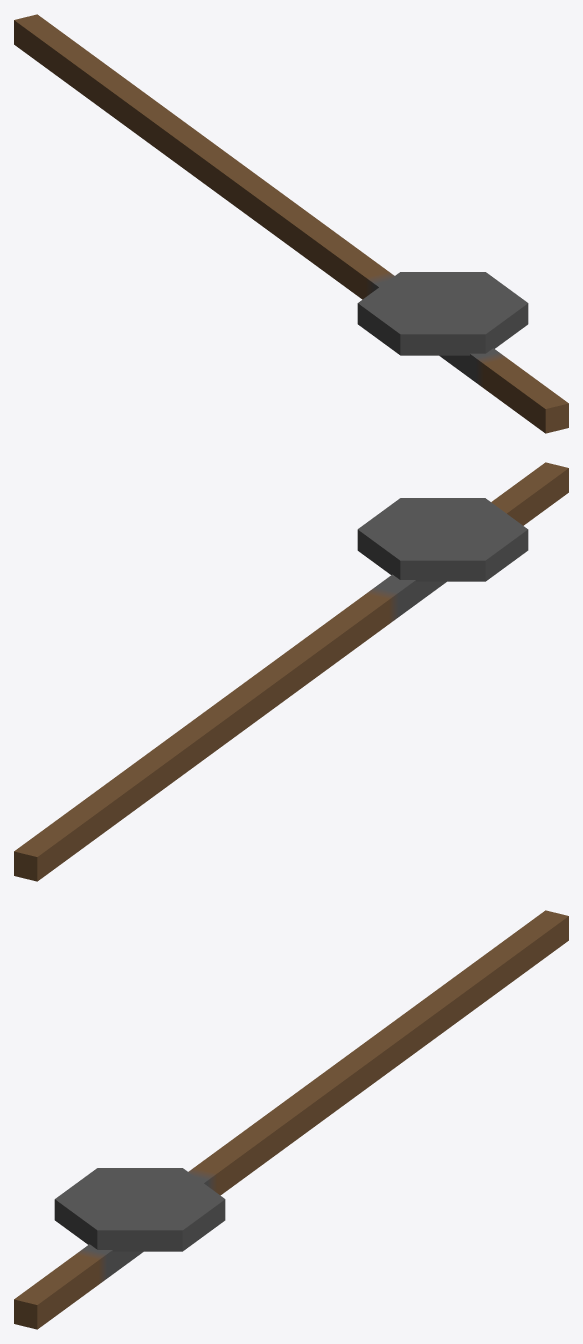
Rendered from rod.glb.
3 views of the same model, one above another, from view 1: azimuth 30°, elevation 25°; view 2: azimuth 150°, elevation 25°; view 3: azimuth 330°, elevation 25° (orthographic).
Visible parts, largest first — view 1: Cube; view 2: Cube; view 3: Cube.
Boxes of the visible parts, left/top/right/bottom form: Cube: left=14, top=14, right=568, bottom=433; Cube: left=14, top=462, right=568, bottom=881; Cube: left=14, top=910, right=568, bottom=1329.
Bounding box in the file's own units: 0.2372 × 0.0779 × 1.71.
